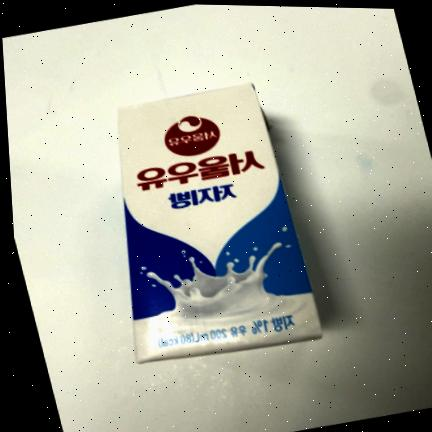milk_blue: (118, 84, 322, 362)
